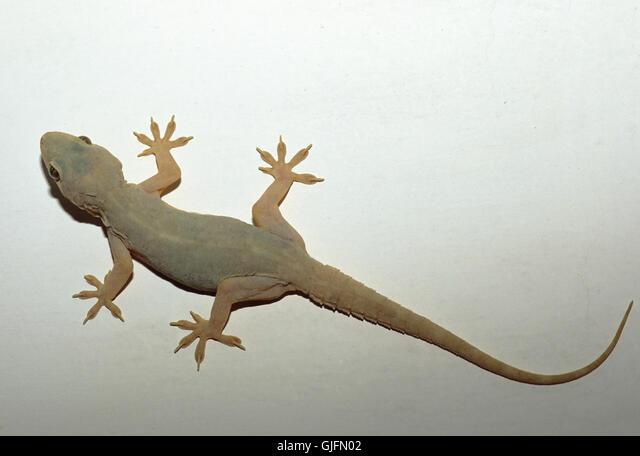lizard: (31, 111, 637, 388)
